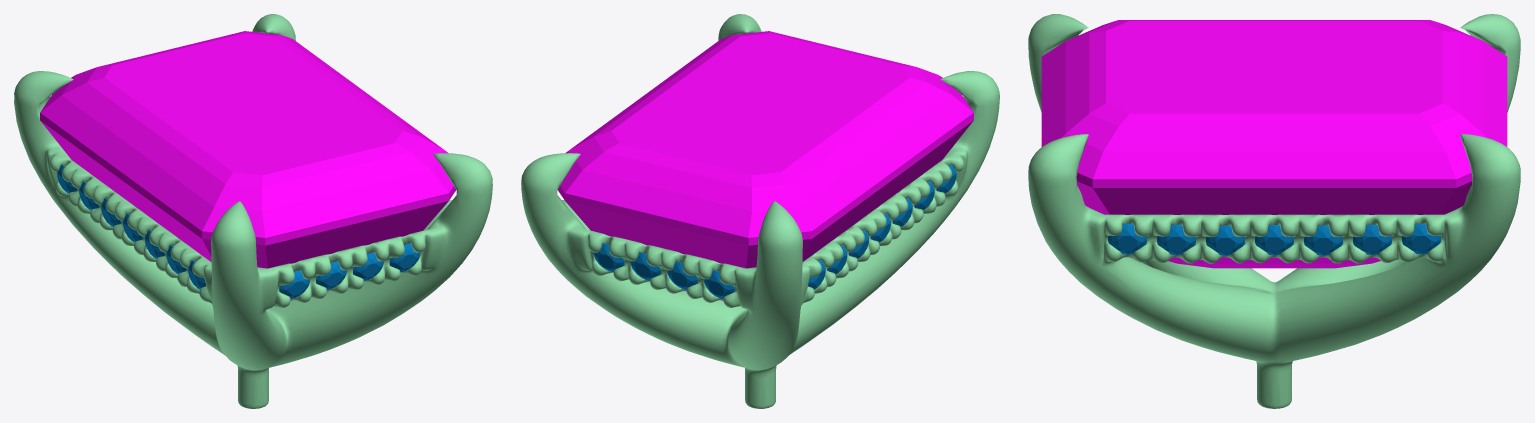
Rendered from Emerald_diamond.glb.
3 views of the same model, side by side, from view 1: azimuth 30°, elevation 25°; view 2: azimuth 150°, elevation 25°; view 3: azimuth 270°, elevation 25° (orthographic). The views are drawn at different scales.
Parts seen in each view (by area): view 1: CS_Diamond_Emerald, Metal 02, Diamond_Round_Gem_HD.001, Diamond_Round_Gem_HD.003, Diamond_Round_Gem_HD.002, Diamond_Round_Gem_HD; view 2: CS_Diamond_Emerald, Metal 02, Diamond_Round_Gem_HD.018, Diamond_Round_Gem_HD.019, Diamond_Round_Gem_HD.020, Diamond_Round_Gem_HD.021; view 3: CS_Diamond_Emerald, Metal 02, Diamond_Round_Gem_HD.006, Diamond_Round_Gem_HD.008, Diamond_Round_Gem_HD.007, Diamond_Round_Gem_HD.005, Diamond_Round_Gem_HD.009, Diamond_Round_Gem_HD.004, Diamond_Round_Gem_HD.010.
Part boxes in pixels (bbox=[...]): CS_Diamond_Emerald: bbox=[40, 31, 455, 300]; Metal 02: bbox=[14, 14, 492, 408]; Diamond_Round_Gem_HD.001: bbox=[316, 261, 346, 289]; Diamond_Round_Gem_HD.003: bbox=[389, 243, 420, 271]; Diamond_Round_Gem_HD.002: bbox=[353, 252, 383, 280]; Diamond_Round_Gem_HD: bbox=[279, 270, 309, 298]; CS_Diamond_Emerald: bbox=[558, 31, 973, 300]; Metal 02: bbox=[521, 14, 999, 408]; Diamond_Round_Gem_HD.018: bbox=[593, 243, 624, 271]; Diamond_Round_Gem_HD.019: bbox=[630, 252, 661, 280]; Diamond_Round_Gem_HD.020: bbox=[667, 261, 697, 289]; Diamond_Round_Gem_HD.021: bbox=[704, 270, 734, 298]; CS_Diamond_Emerald: bbox=[1041, 20, 1507, 268]; Metal 02: bbox=[1028, 14, 1520, 408]; Diamond_Round_Gem_HD.006: bbox=[1304, 225, 1342, 255]; Diamond_Round_Gem_HD.008: bbox=[1206, 225, 1244, 255]; Diamond_Round_Gem_HD.007: bbox=[1255, 225, 1293, 255]; Diamond_Round_Gem_HD.005: bbox=[1353, 224, 1391, 255]; Diamond_Round_Gem_HD.009: bbox=[1157, 224, 1195, 255]; Diamond_Round_Gem_HD.004: bbox=[1401, 223, 1440, 254]; Diamond_Round_Gem_HD.010: bbox=[1108, 223, 1147, 254].
Size of the model in its own units: 7.29 by 7.56 by 10.05.
